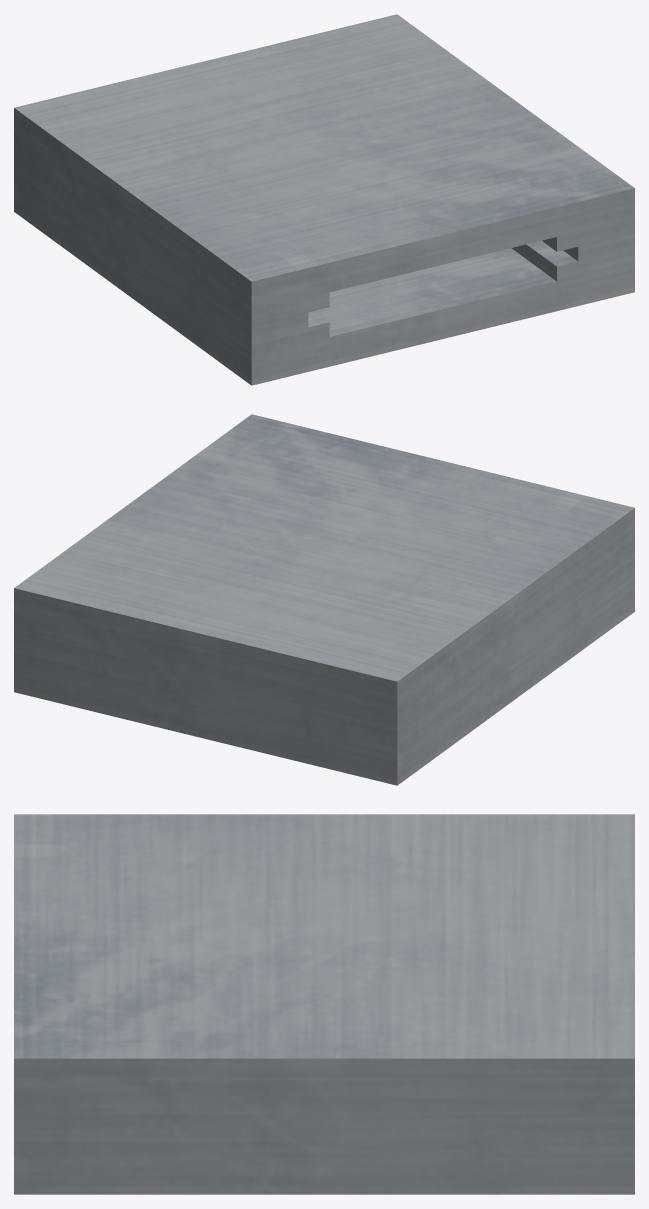
Rendered from Generic-Data-Card-Type-0-Reader.obj.
3 renders of one model, top to bottom at view 1: azimuth 30°, elevation 25°; view 2: azimuth 150°, elevation 25°; view 3: azimuth 270°, elevation 25°, orthographic. The views are drawn at different scales.
Visible parts, largest first — view 1: Generic-Data-Card-Type-0-Reader; view 2: Generic-Data-Card-Type-0-Reader; view 3: Generic-Data-Card-Type-0-Reader.
Part boxes in pixels (x1,y1,x2,y2): Generic-Data-Card-Type-0-Reader: [14, 14, 634, 385]; Generic-Data-Card-Type-0-Reader: [14, 414, 634, 785]; Generic-Data-Card-Type-0-Reader: [14, 814, 634, 1194].
Size of the model in its own units: 0.135 by 0.035 by 0.145.
